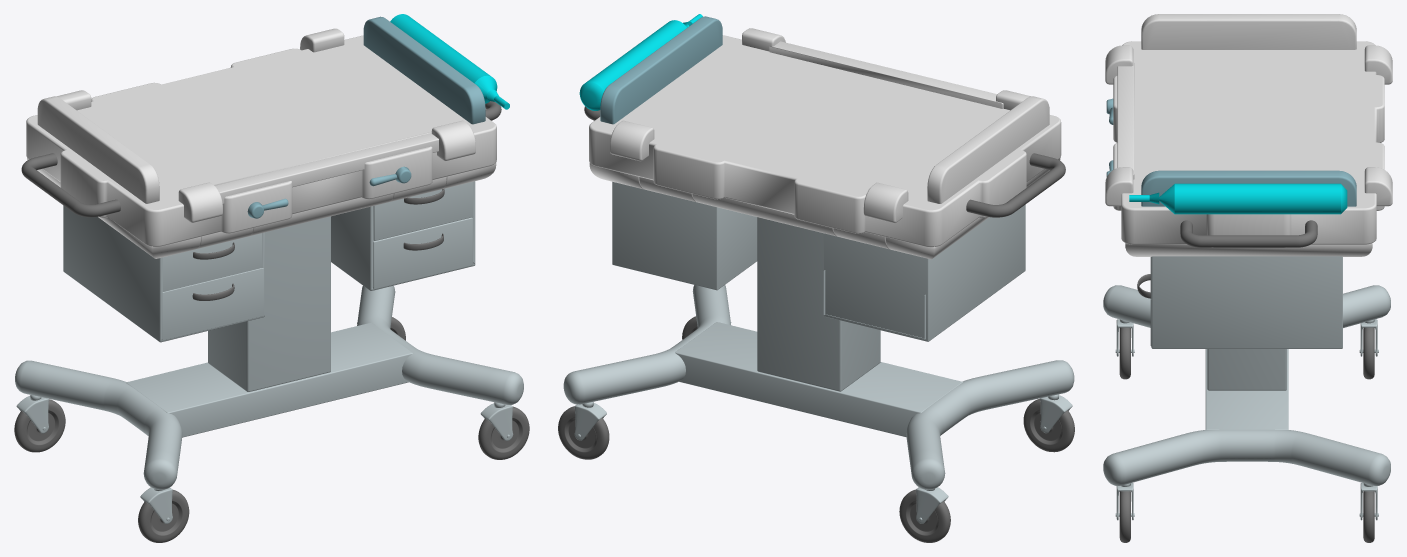
File: Incubaterminada.fbx
The picture shows the model from 3 angles, left to right: view 1: azimuth 30°, elevation 25°; view 2: azimuth 150°, elevation 25°; view 3: azimuth 270°, elevation 25°; orthographic projection.
Visible parts, largest first — view 1: basecami:basecamita, base, Cajon3, Cajon4, Cajon2, Cajon1, basecami:cilindro; view 2: base, basecami:basecamita, basecami:cilindro; view 3: basecami:basecamita, base, basecami:cilindro.
Boxes of the visible parts, bbox=[...] form: basecami:basecamita: bbox=[21, 16, 501, 258]; base: bbox=[14, 181, 529, 542]; Cajon3: bbox=[161, 268, 263, 340]; Cajon4: bbox=[373, 217, 472, 289]; Cajon2: bbox=[373, 182, 473, 240]; Cajon1: bbox=[163, 233, 264, 291]; basecami:cilindro: bbox=[390, 14, 509, 109]; base: bbox=[558, 182, 1074, 542]; basecami:basecamita: bbox=[584, 16, 1065, 259]; basecami:cilindro: bbox=[579, 14, 702, 110]; basecami:basecamita: bbox=[1105, 14, 1392, 256]; base: bbox=[1103, 256, 1390, 542]; basecami:cilindro: bbox=[1129, 183, 1347, 214].
Bounding box in the file's own units: 479 × 391 × 285.
